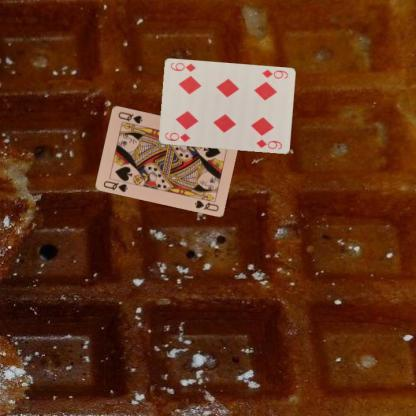6d: (259, 67, 289, 80), (162, 130, 191, 143)
Qs: (101, 178, 130, 193)
